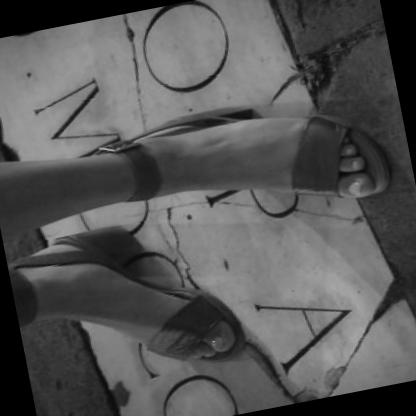ankle: (21, 265, 33, 276), (144, 135, 160, 142)
heel: (177, 120, 193, 127), (55, 241, 66, 249)
left_foot: (104, 80, 391, 243)
pinky: (335, 128, 348, 137), (185, 354, 196, 360)
right_foot: (9, 210, 245, 396)
toe: (352, 186, 369, 196), (213, 340, 227, 349)
